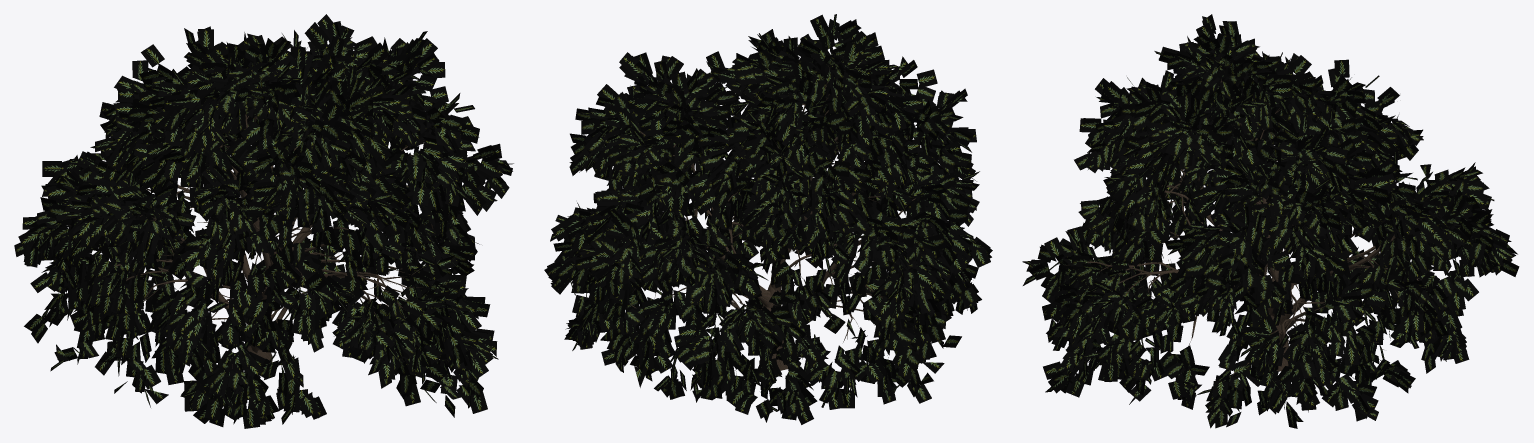
Rendered from willow.glb.
The picture shows the model from 3 angles, left to right: view 1: azimuth 30°, elevation 25°; view 2: azimuth 150°, elevation 25°; view 3: azimuth 270°, elevation 25°; orthographic projection. The views are drawn at different scales.
Visible parts, largest first — view 1: Object_10, Object_7; view 2: Object_10, Object_7; view 3: Object_10, Object_7.
Boxes of the visible parts, box(x1,y1,x2,y2) form: Object_10: box(14, 14, 513, 428); Object_7: box(68, 80, 433, 368); Object_10: box(544, 14, 992, 424); Object_7: box(629, 66, 916, 370); Object_10: box(1022, 14, 1519, 428); Object_7: box(1064, 71, 1438, 379).
Bounding box in the file's own units: 34.02 × 26.8 × 36.71.
2 materials, 2 textured.
